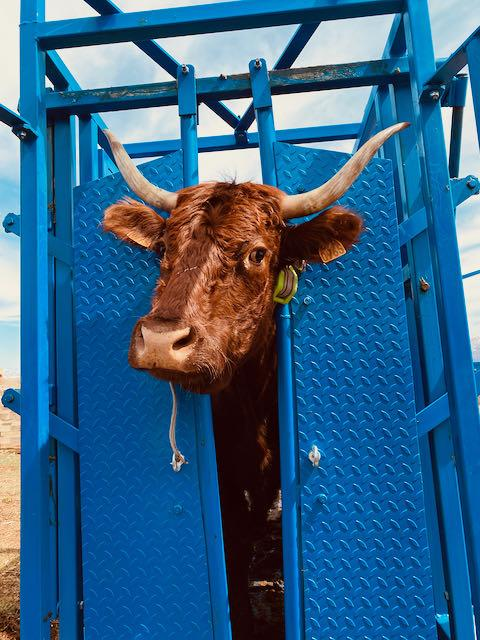muzzles: (119, 315, 217, 383)
